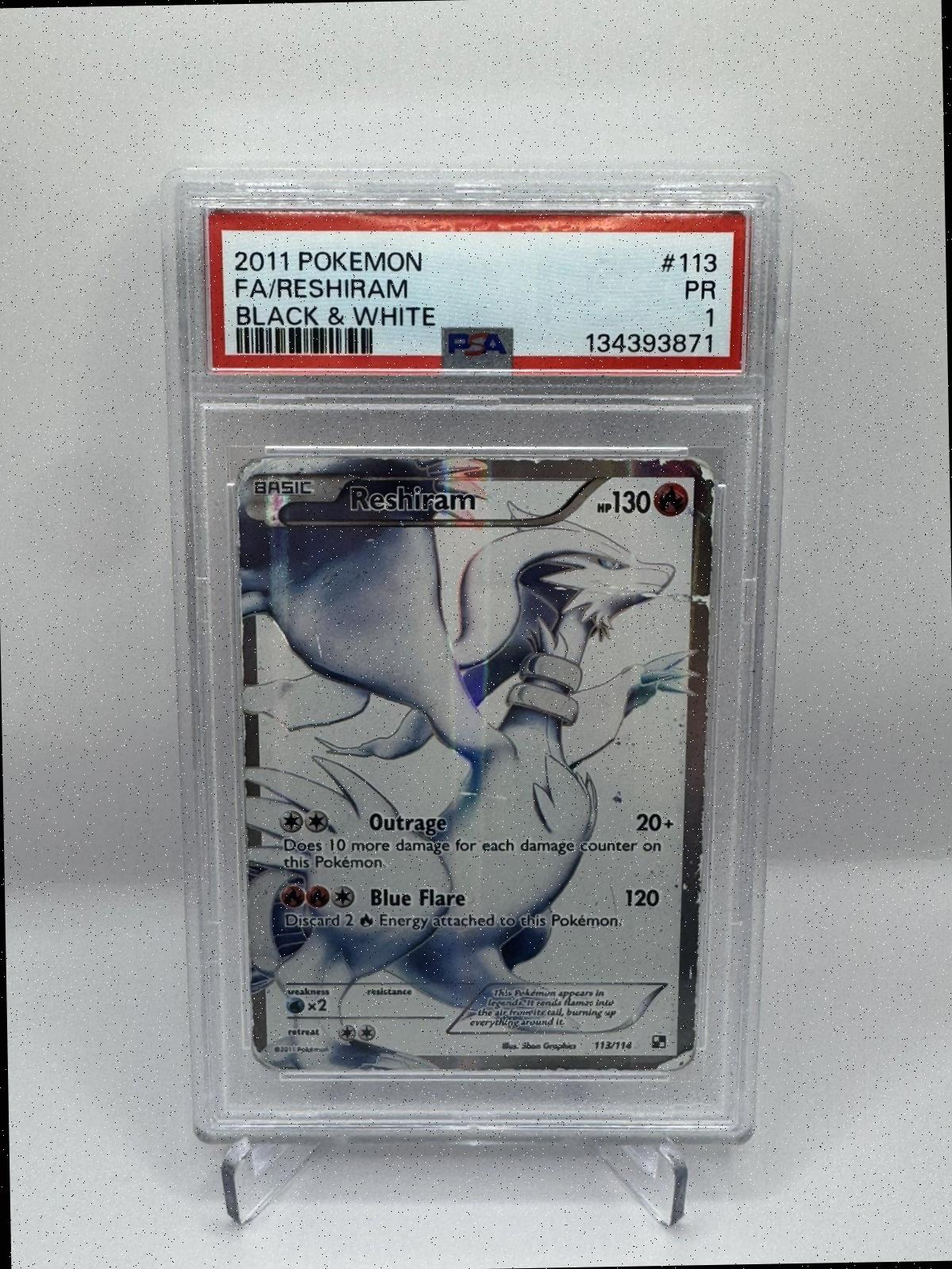card-2UtV: (235, 455, 715, 1072)
